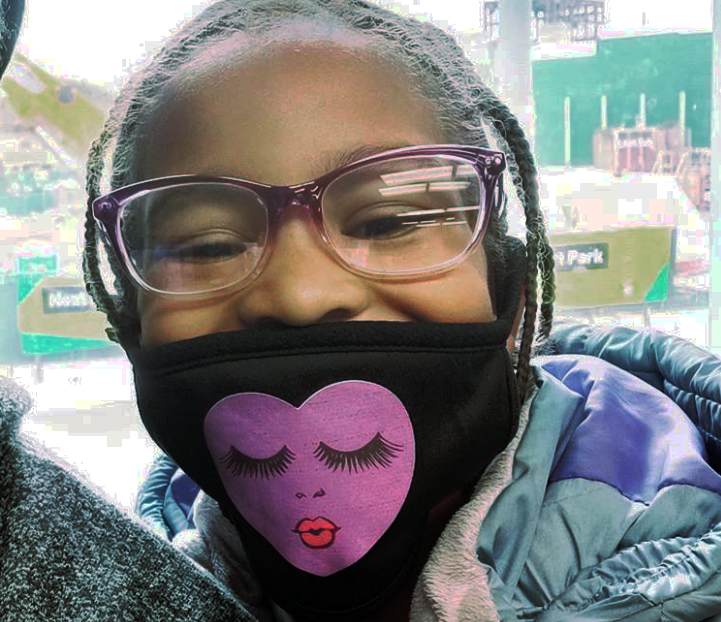mask_weared_incorrect: (85, 2, 550, 620)
